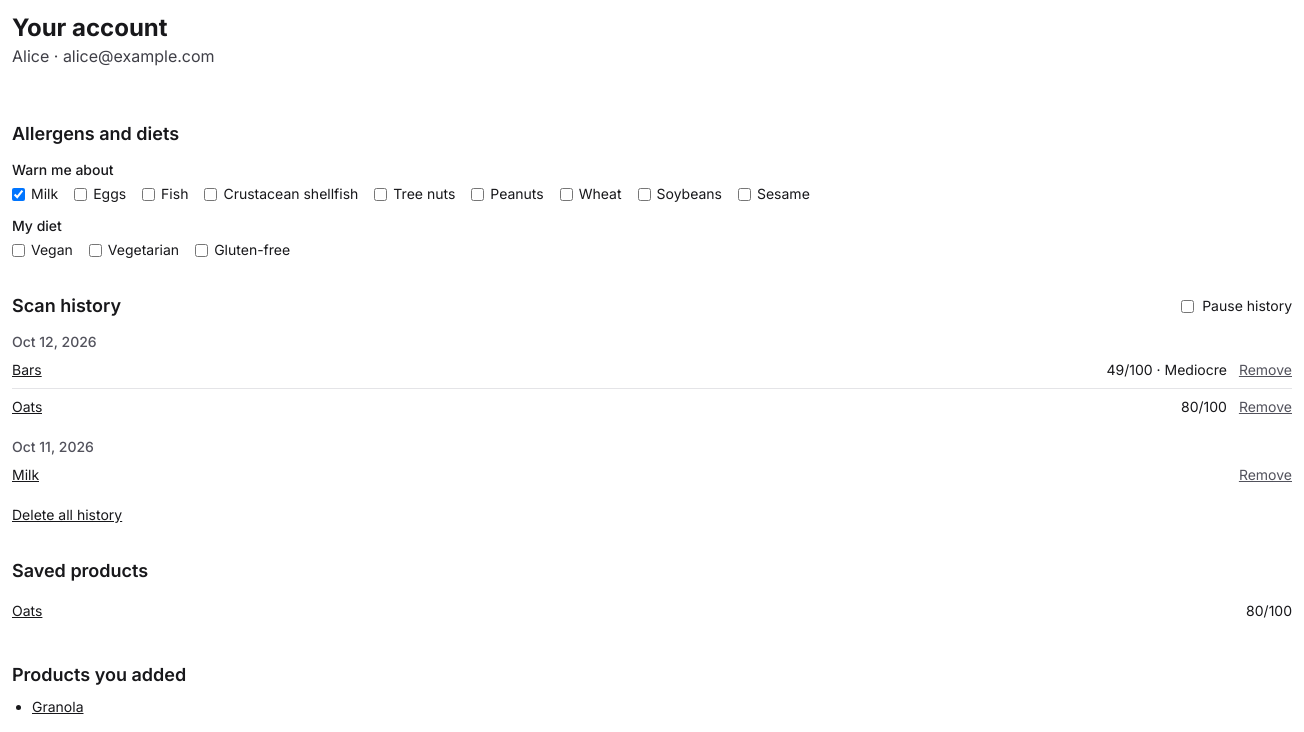
Test case: [ACC-11] deleting history › removes one scan or all of them
Click the button with aria-label "Remove Bars from history" at (1265, 370), box [1239,360,1292,380]
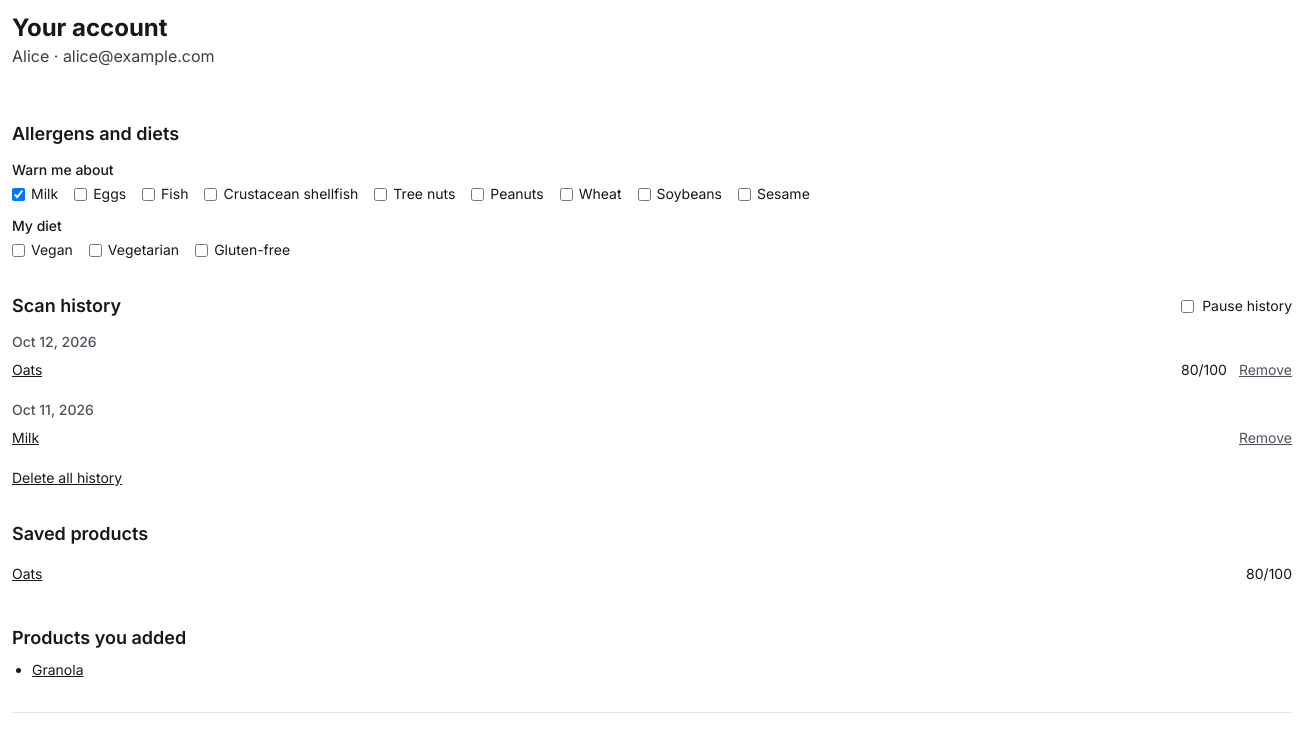
Result: the link "Bars" is gone
Click the button "Delete all history" at (67, 478), box [12,468,122,488]
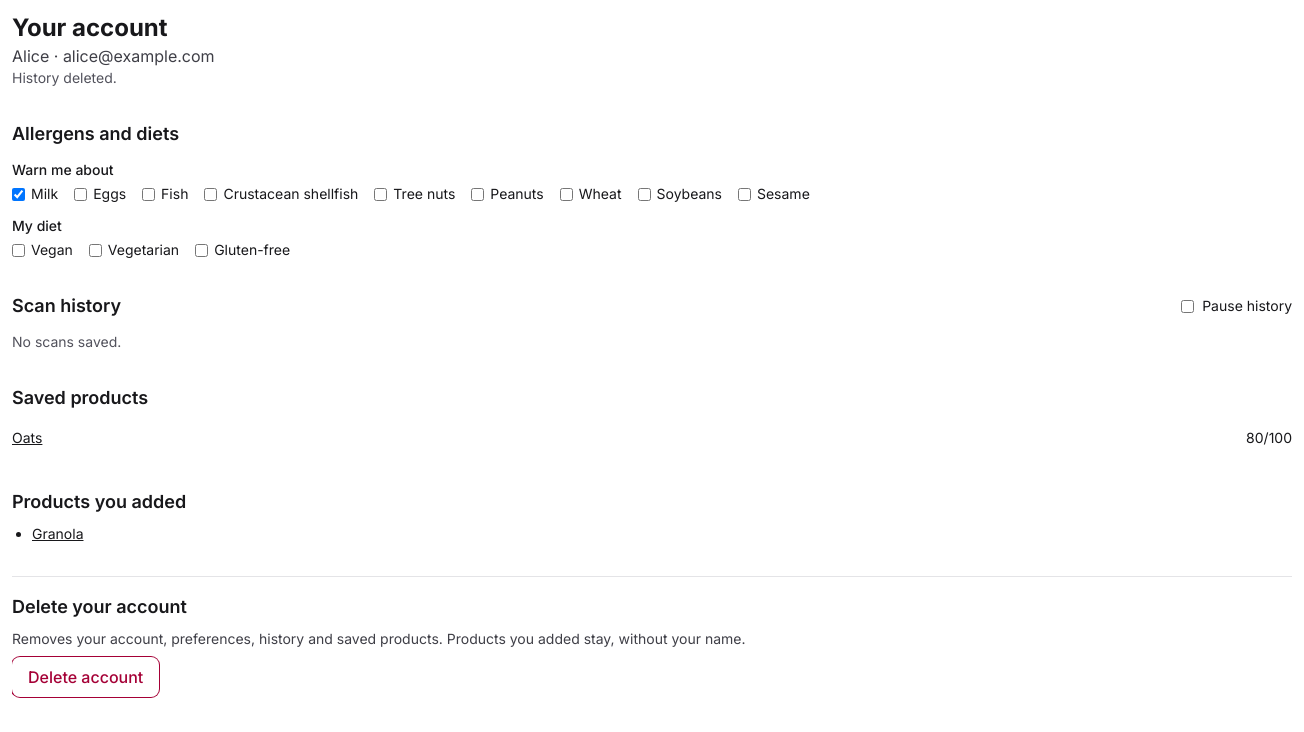
Result: the text "No scans saved." is shown at [12,333,121,350]
